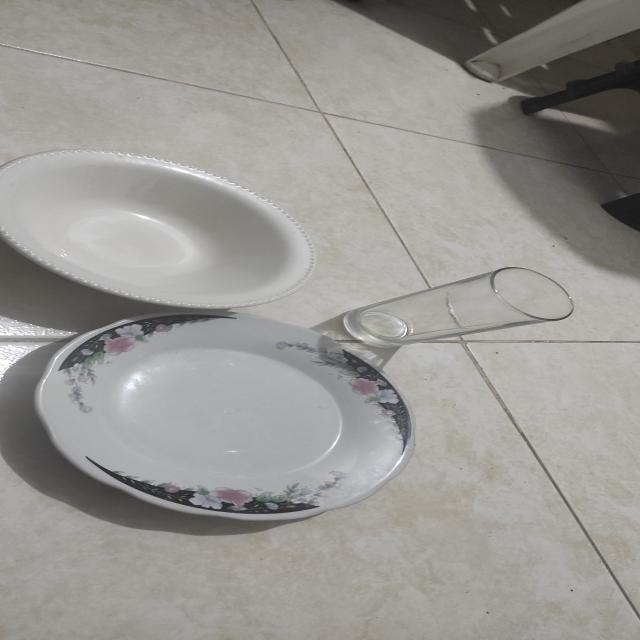non-organic waste: (10, 307, 452, 536), (0, 148, 375, 314)
